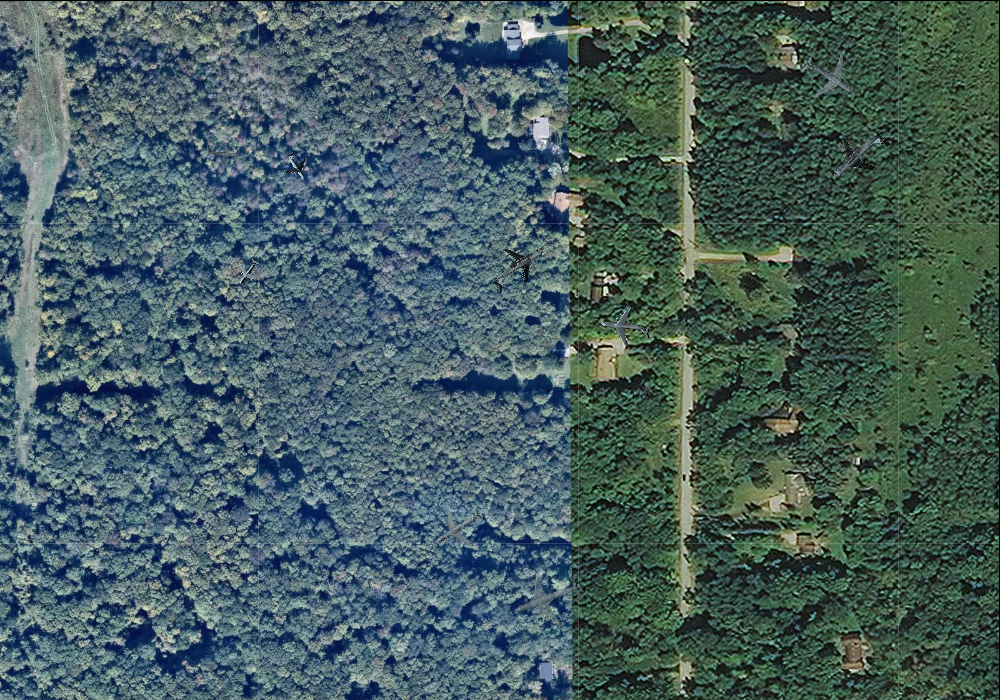plane: (502, 555, 592, 642), (816, 113, 903, 199), (479, 229, 560, 306), (790, 38, 869, 116), (423, 492, 494, 562), (599, 302, 652, 353), (276, 145, 316, 186), (228, 252, 267, 291), (203, 135, 240, 169)
